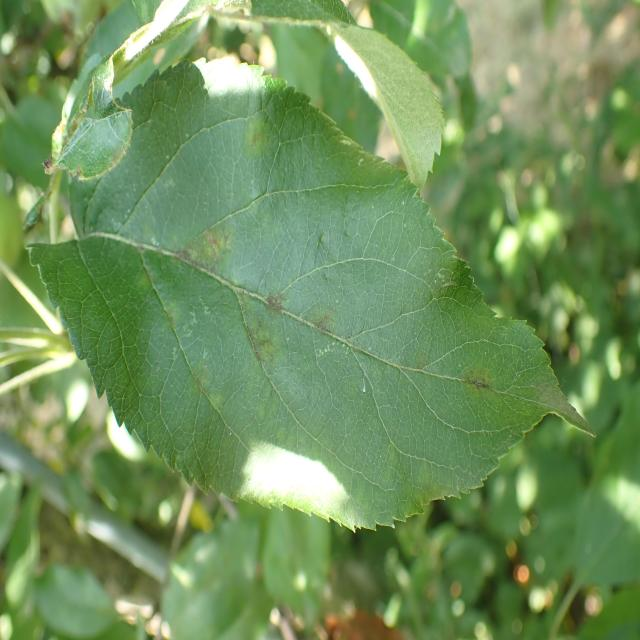scab: (98, 150, 568, 493)
